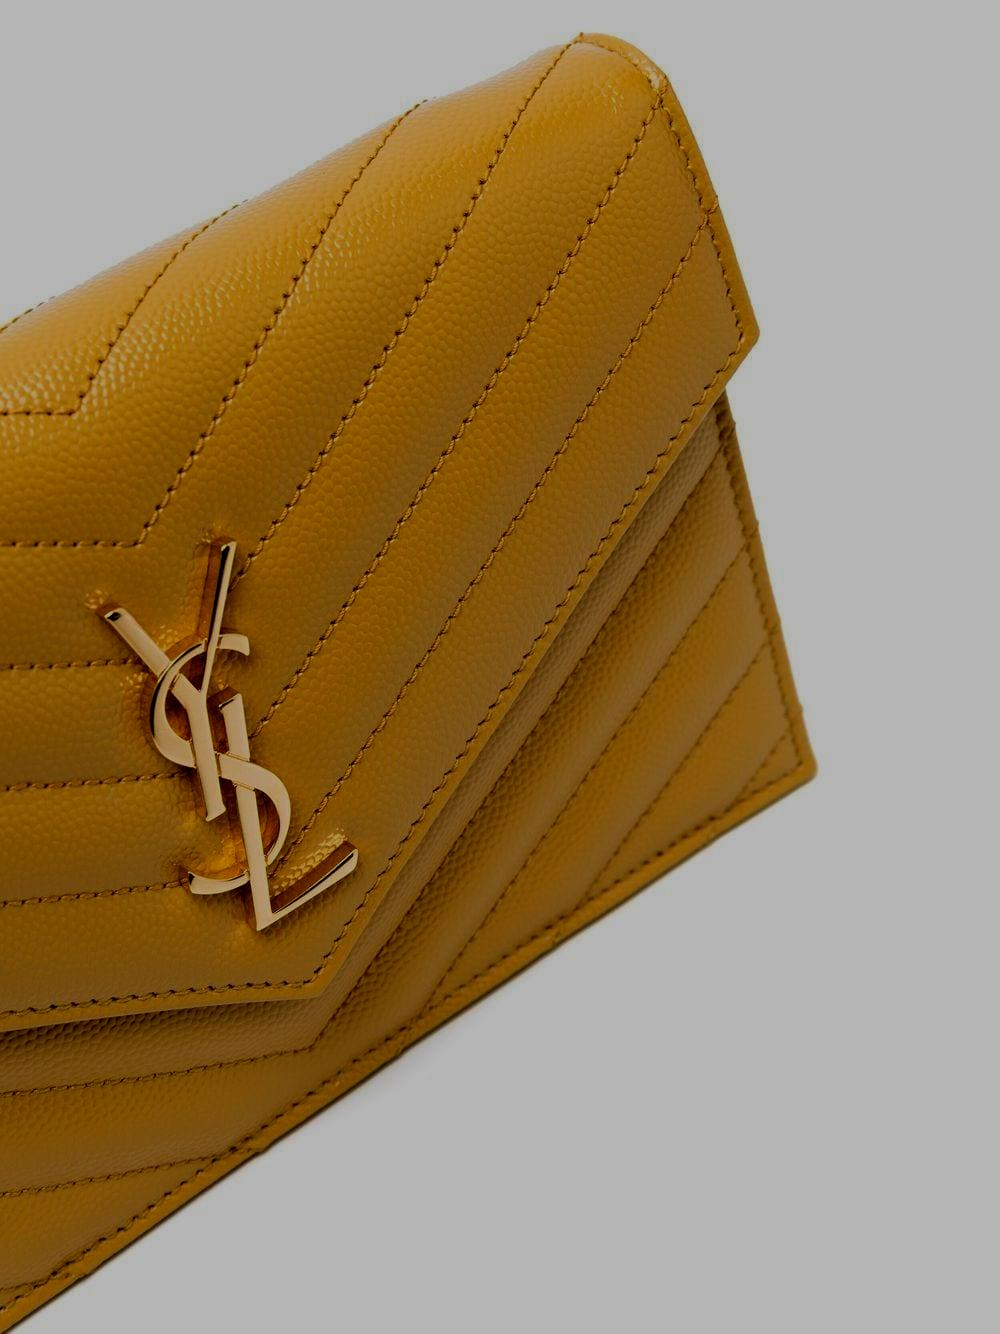YVES-SAINT-LAURENT: (95, 536, 359, 931)
